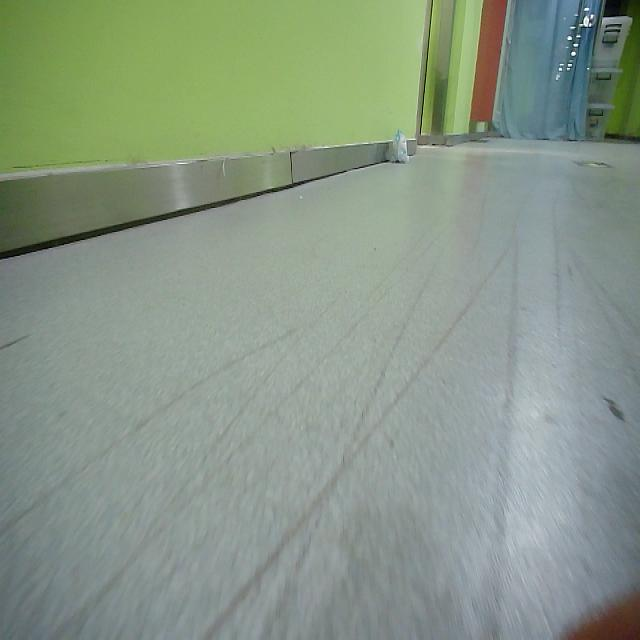xiaoba: (390, 126, 408, 169)
